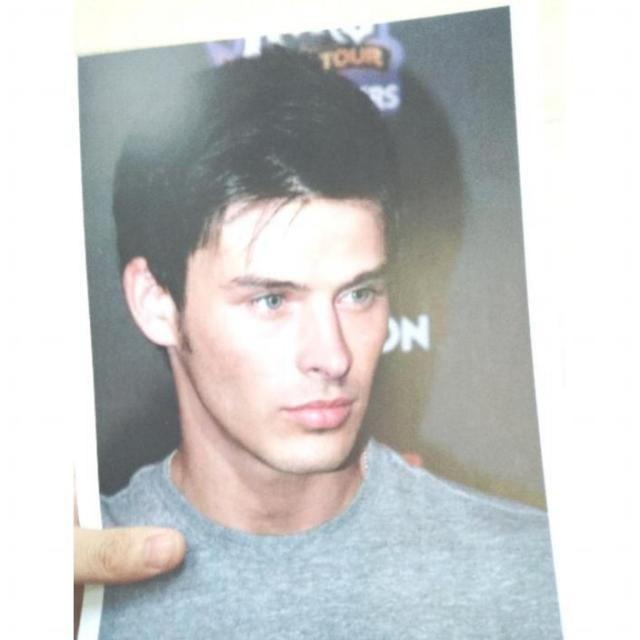photo: (76, 0, 556, 640)
